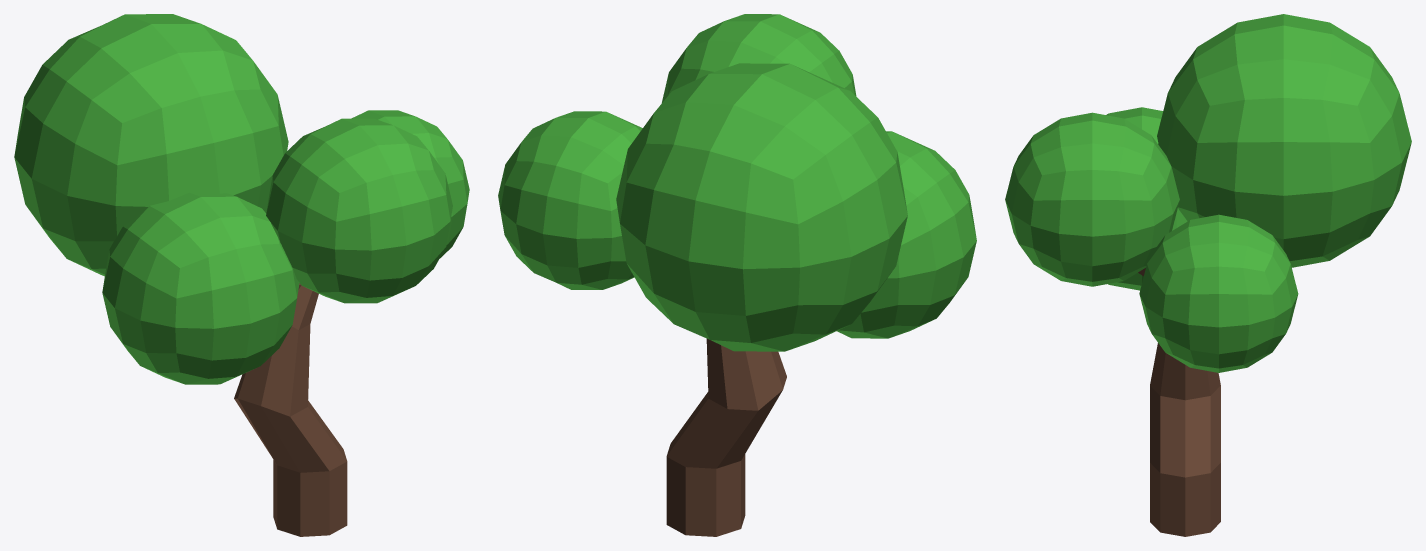
Rendered from OakTreeLeavesTest.fbx.
3 views of the same model, side by side, from view 1: azimuth 30°, elevation 25°; view 2: azimuth 150°, elevation 25°; view 3: azimuth 270°, elevation 25° (orthographic). The views are drawn at different scales.
Visible parts, largest first — view 1: OakTreeTest; view 2: OakTreeTest; view 3: OakTreeTest.
Boxes of the visible parts, x1,y1,x2,y2 form: OakTreeTest: [14, 14, 469, 536]; OakTreeTest: [498, 14, 976, 536]; OakTreeTest: [1005, 14, 1411, 536].
Size of the model in its own units: 12.85 by 15.15 by 12.45.
